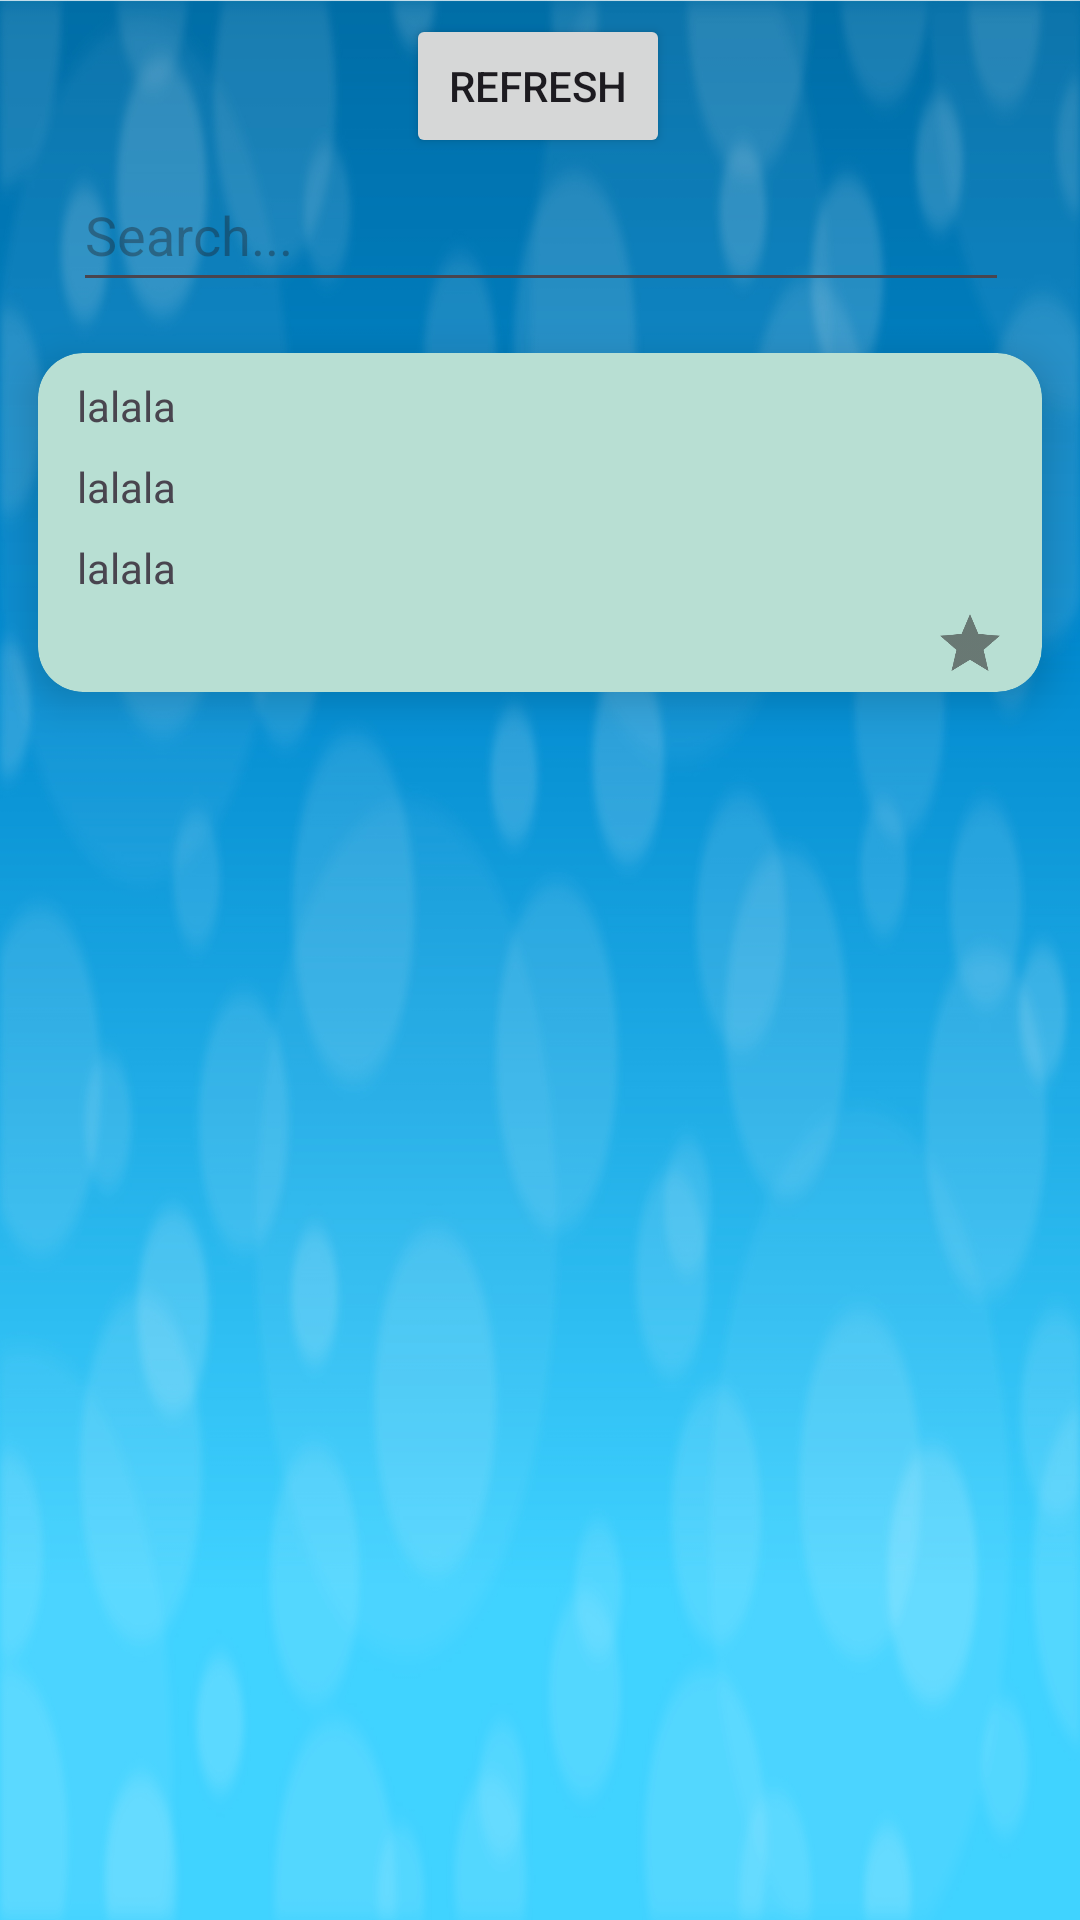

Screen size 1080x1920. Icon name, then its center in pixels as point (x, y):
Favorite Icon: point (970, 643)
